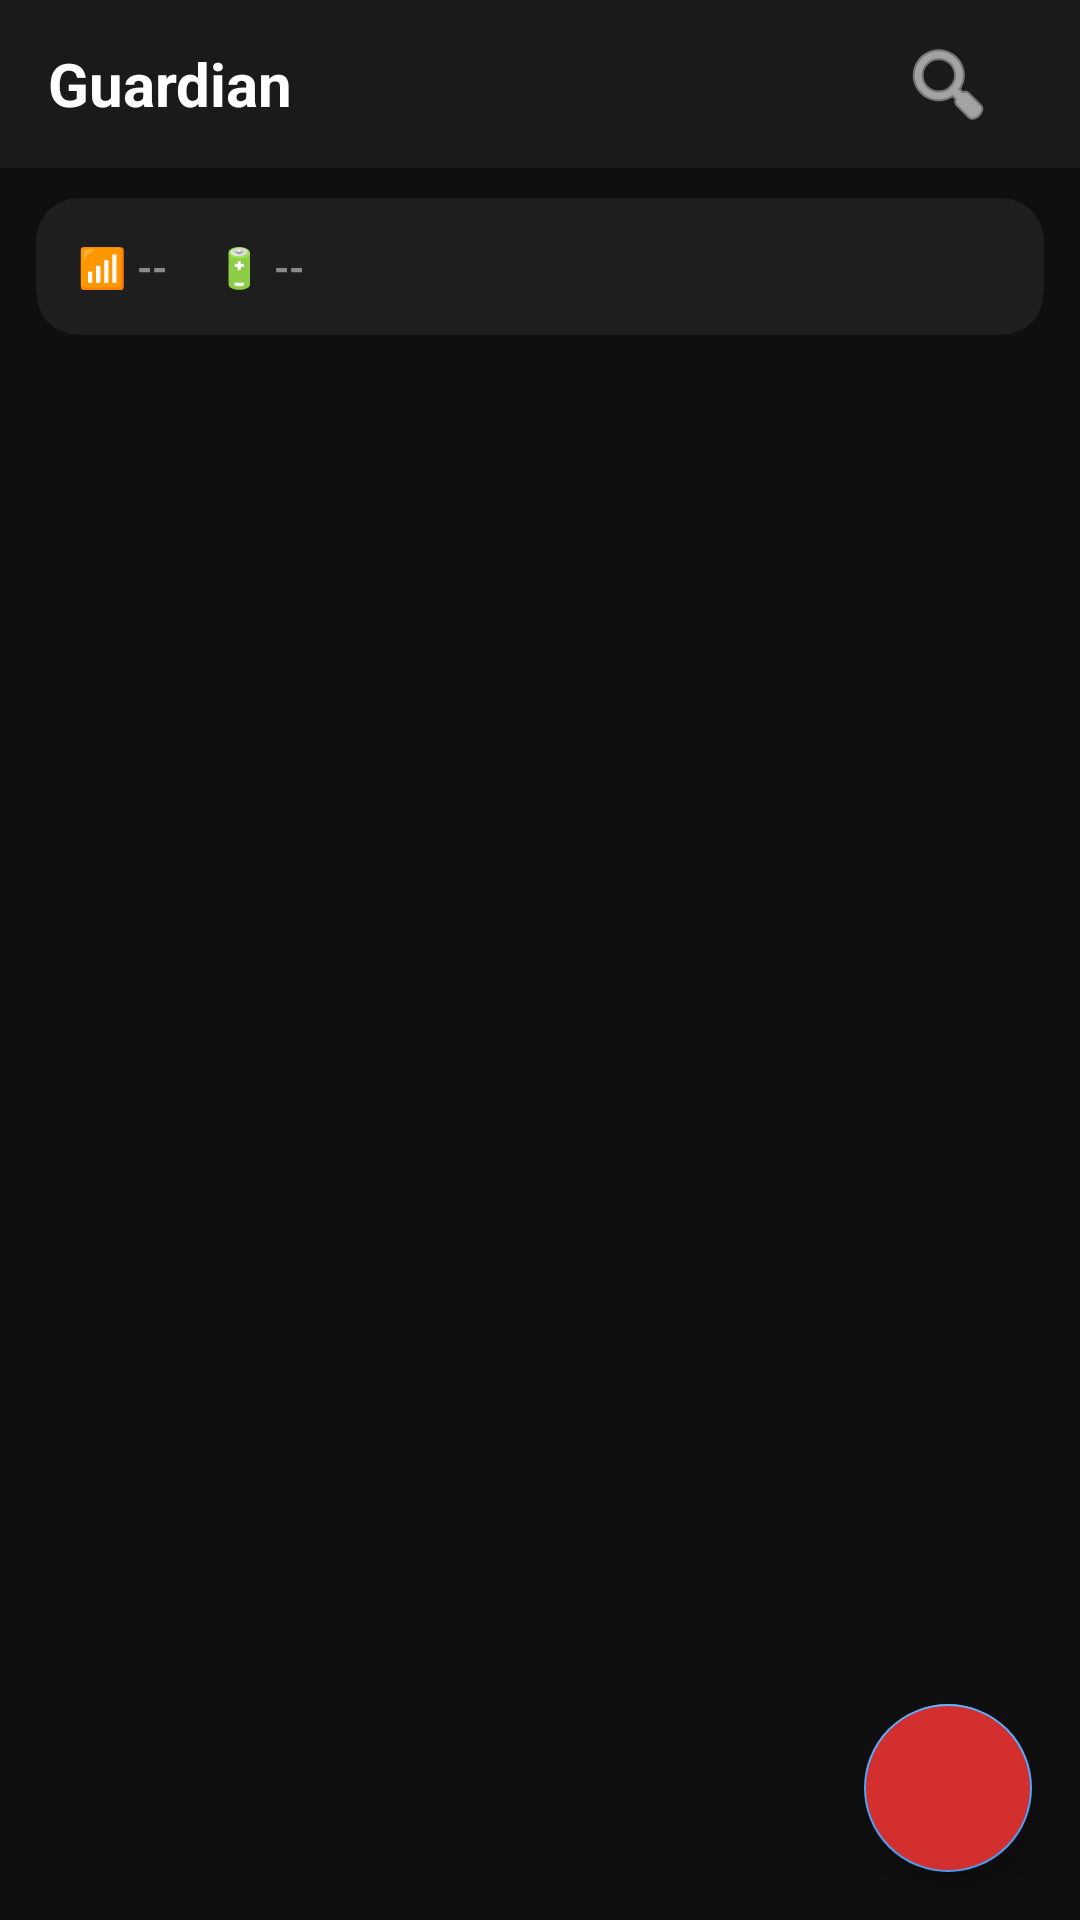

Icons on this 1080px x 1920px Android screen, each with the point to tap as (x=x, y=y):
Search: (x=948, y=84)
